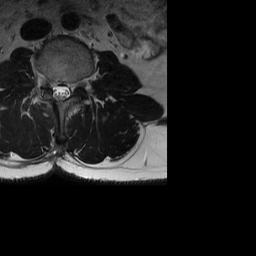CCS_normal: (57, 77, 63, 108)
LFS_normal: (70, 74, 78, 97)
LLS_normal: (63, 75, 70, 103)
RFS_normal: (43, 70, 51, 93)
RLS_normal: (51, 75, 57, 104)
